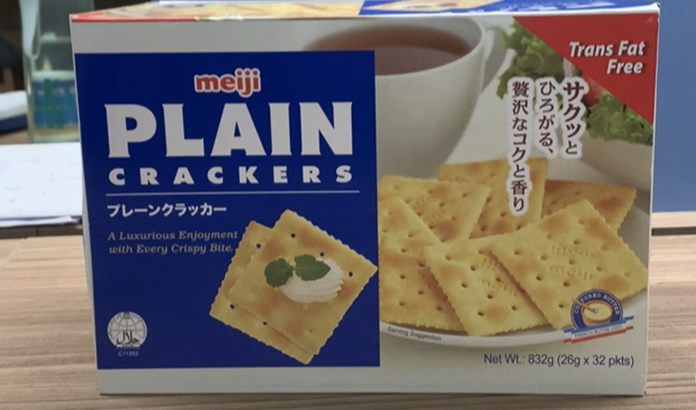crackers_550g: (95, 20, 645, 381)
